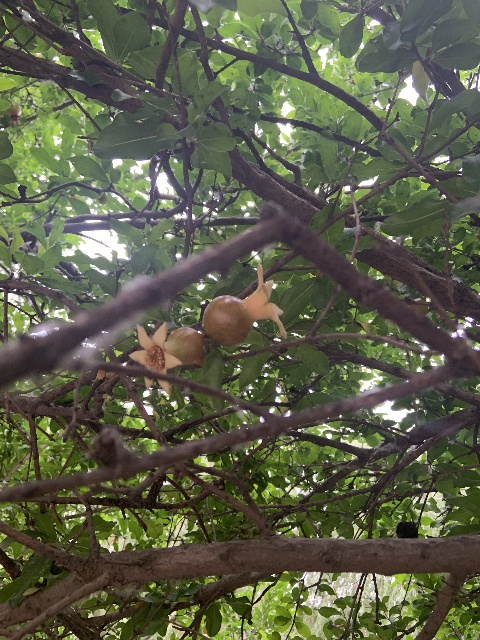bud: (257, 36, 263, 41)
early-fruit: (203, 263, 285, 346), (129, 321, 205, 393)
mid-growth: (4, 101, 20, 124)
